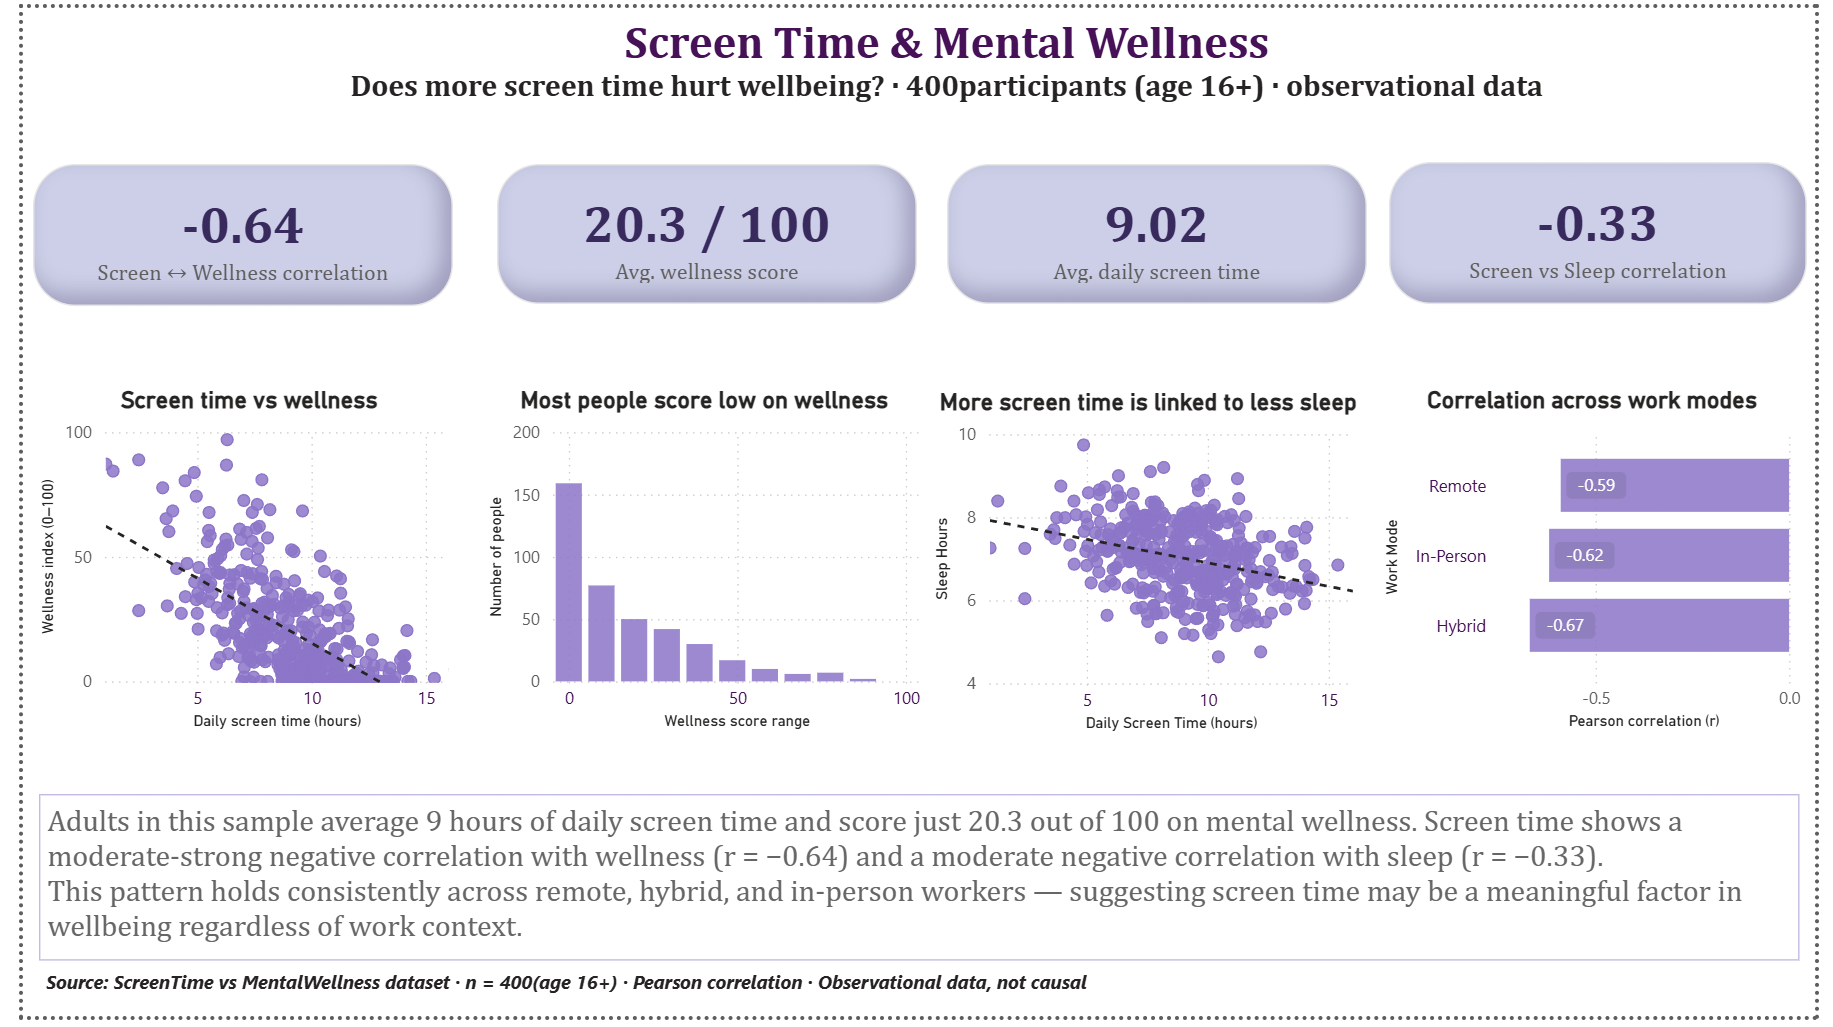

This screenshot's page, from the dashboard's own definition file:
{"tool":"powerbi","page":{"name":"Page 1","canvas":[1280,720],"ordinal":0},"visuals":[{"type":"card","fields":{"Values":["Avg(ScreenTime vs MentalWellness.screen_time_hours)"]},"box":[659.6,111,300,100],"z":0},{"type":"card","fields":{"Values":["ScreenTime vs MentalWellness.Avg Wellness Display"]},"box":[339,111,300,100],"z":1000},{"type":"card","fields":{"Values":["ScreenTime vs MentalWellness.Screen vs Sleep Correlation"]},"box":[975.7,109.6,298.5,101.5],"z":2000},{"type":"columnChart","title":"Most people score low on wellness","fields":{"Y":["CountNonNull(ScreenTime vs MentalWellness.user_id)"],"Category":["ScreenTime vs MentalWellness.mental_wellness_index_0_100 (bins)"]},"box":[326.5,270.6,319.1,250],"z":3000},{"type":"scatterChart","title":"Screen time vs wellness","fields":{"X":["ScreenTime vs MentalWellness.screen_time_hours"],"Y":["ScreenTime vs MentalWellness.mental_wellness_index_0_100"]},"box":[7.4,270.6,308.8,250],"z":4000},{"type":"textbox","box":[219.1,0,882.4,79.4],"z":5000},{"type":"card","fields":{"Values":["ScreenTime vs MentalWellness.Correlation ScreenTime Wellness"]},"box":[6.6,111,300,101.5],"z":6000},{"type":"clusteredBarChart","title":"Correlation across work modes","fields":{"Category":["WorkModeCorr.Work Mode"],"Y":["Sum(WorkModeCorr.Corr)"]},"box":[967.6,270.6,307.4,250],"z":7000},{"type":"scatterChart","title":"More screen time is linked to less sleep","fields":{"X":["ScreenTime vs MentalWellness.screen_time_hours"],"Y":["ScreenTime vs MentalWellness.sleep_hours"]},"box":[645.6,271.3,316.2,250],"z":8000},{"type":"textbox","box":[11.8,561.8,1257.4,119.1],"z":9000},{"type":"textbox","box":[11.8,680.9,1269.1,41.2],"z":10000}]}

Visuals, with their boxes in screenshot pixels (x1, y1, x2, y2), scaled from the page's 1280x720 canvas onto the 1833x1027 screenshot:
card - Avg(ScreenTime vs MentalWellness.screen_time_hours): box(945, 158, 1374, 301)
card - ScreenTime vs MentalWellness.Avg Wellness Display: box(485, 158, 915, 301)
card - ScreenTime vs MentalWellness.Screen vs Sleep Correlation: box(1397, 156, 1825, 301)
"Most people score low on wellness" columnChart: box(468, 386, 925, 743)
"Screen time vs wellness" scatterChart: box(11, 386, 453, 743)
textbox: box(314, 0, 1577, 113)
card - ScreenTime vs MentalWellness.Correlation ScreenTime Wellness: box(9, 158, 439, 303)
"Correlation across work modes" clusteredBarChart: box(1386, 386, 1826, 743)
"More screen time is linked to less sleep" scatterChart: box(925, 387, 1377, 744)
textbox: box(17, 801, 1818, 971)
textbox: box(17, 971, 1832, 1026)
